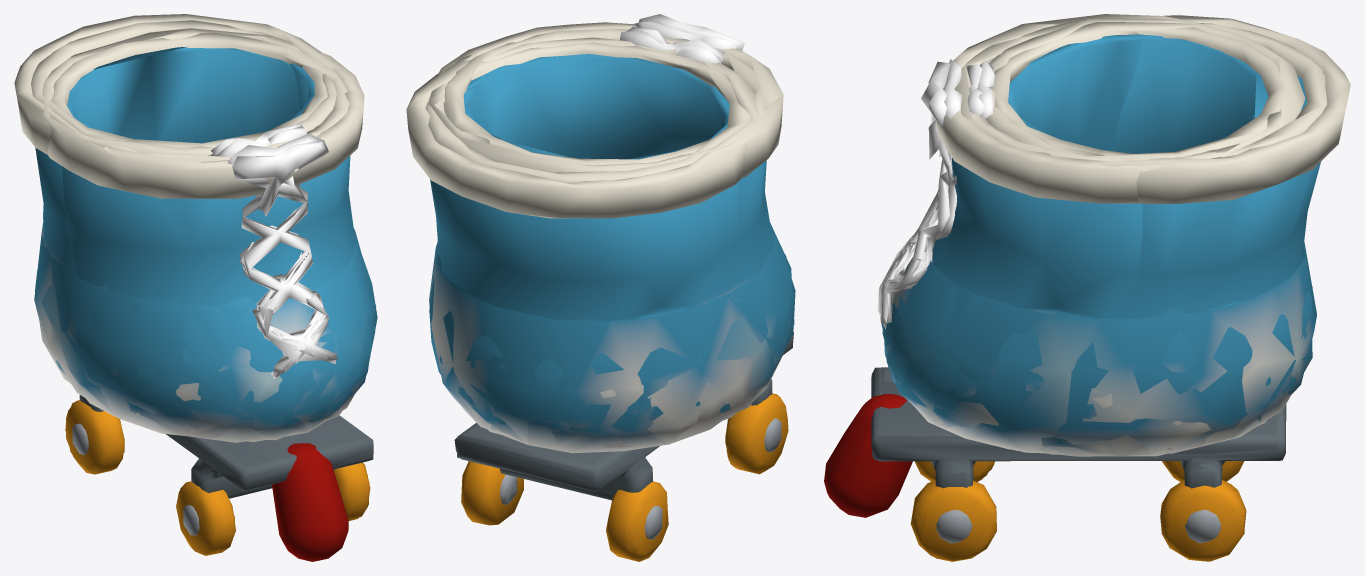
Rendered from giaypatin.glb.
3 views of the same model, side by side, from view 1: azimuth 30°, elevation 25°; view 2: azimuth 150°, elevation 25°; view 3: azimuth 270°, elevation 25° (orthographic). The views are drawn at different scales.
Visible parts, largest first — view 1: Giay_Co__BL, Giay_Co__FR, Giay__BL, Giay__BR, Dem_Co_Co__BL, Day_Buoc_Co__BL, Dem_Co_Co__BR, Dem_Co_Co__FR, Giay__FL, Dem_Co_Co__FL, Giay__FR, Phanh__FL (+19 smaller); view 2: Giay__BR, Giay_Co__BR, Giay_Co__FL, Dem_Co_Co__BR, Giay__BL, Dem_Co_Co__BL, Dem_Co_Co__FL, Dem_Co_Co__FR, Banh_Xe__FL, Banh_Xe__BR, Giay_Co__BL, Khung__BR (+14 smaller); view 3: Giay__BL, Giay__BR, Giay_Co__BL, Giay_Co__BR, Dem_Co_Co__BR, Giay_Co__FR, Dem_Co_Co__BL, Giay_Co__FL, Dem_Co_Co__FL, Dem_Co_Co__FR, Banh_Xe__BL, Khung__FR (+15 smaller).
Part boxes in pixels (x1,y1,x2,y2): Giay_Co__BL: (62, 156, 356, 305); Giay_Co__FR: (67, 46, 307, 143); Giay__BL: (35, 228, 376, 438); Giay__BR: (34, 222, 377, 440); Dem_Co_Co__BL: (42, 28, 364, 198); Day_Buoc_Co__BL: (232, 140, 328, 337); Dem_Co_Co__BR: (14, 14, 341, 155); Dem_Co_Co__FR: (51, 32, 349, 161); Giay__FL: (44, 292, 371, 442); Dem_Co_Co__FL: (31, 20, 327, 147); Giay__FR: (109, 318, 375, 441); Phanh__FL: (272, 443, 334, 561); Giay__BR: (429, 231, 795, 453); Giay_Co__BR: (430, 179, 771, 320); Giay_Co__FL: (467, 54, 729, 159); Dem_Co_Co__BR: (406, 37, 759, 218); Giay__BL: (429, 222, 794, 449); Dem_Co_Co__BL: (428, 22, 783, 177); Dem_Co_Co__FL: (425, 42, 750, 182); Dem_Co_Co__FR: (443, 28, 765, 165); Banh_Xe__FL: (464, 394, 788, 561); Banh_Xe__BR: (464, 393, 788, 561); Giay_Co__BL: (680, 160, 774, 309); Khung__BR: (459, 335, 792, 499); Giay__BL: (886, 257, 1312, 455); Giay__BR: (881, 242, 1316, 456); Giay_Co__BL: (905, 157, 1183, 318); Giay_Co__BR: (1030, 34, 1320, 318); Dem_Co_Co__BR: (985, 15, 1350, 203); Giay_Co__FR: (1108, 38, 1268, 153); Dem_Co_Co__BL: (935, 14, 1304, 203); Giay_Co__FL: (1008, 34, 1306, 150); Dem_Co_Co__FL: (988, 22, 1327, 160); Dem_Co_Co__FR: (954, 19, 1285, 161); Banh_Xe__BL: (911, 461, 1246, 560); Khung__FR: (872, 367, 1285, 488).
Size of the model in its own units: 0.0896 by 0.1182 by 0.1271.
